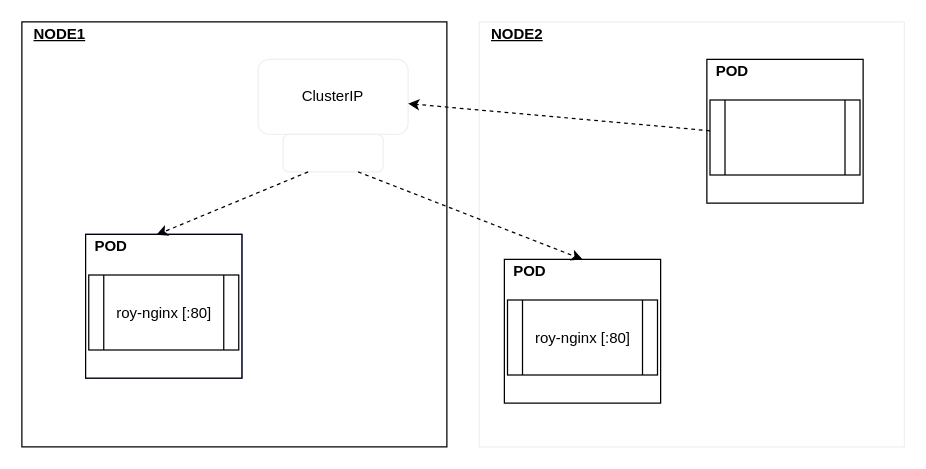
The diagram is 926 pixels wide and 469 high, and some of its shapes have lost their labels. Each missing label, with the centre of its shape:
"busy-box" belongs at (784,137).
"target :80" belongs at (332,152).
